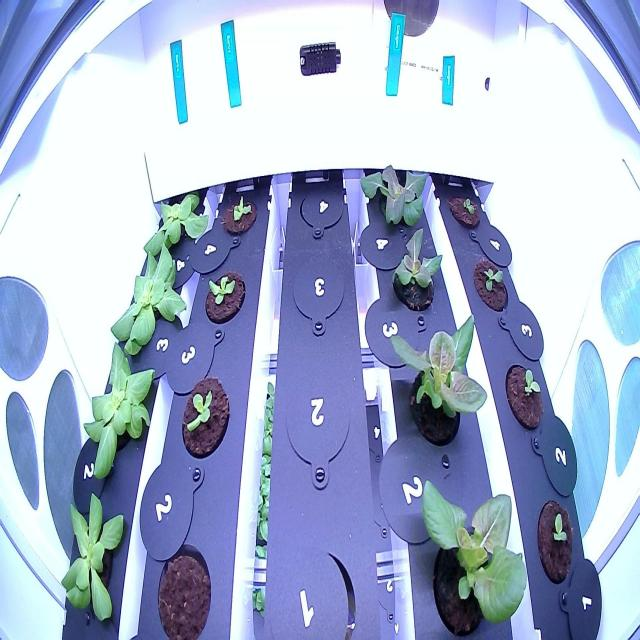empty_pod: (277, 364, 357, 496), (261, 535, 360, 639), (286, 244, 351, 348), (293, 174, 348, 242)
germination: (531, 493, 578, 591), (499, 354, 550, 438), (469, 250, 512, 320), (447, 185, 482, 235)
pod: (153, 534, 214, 640)
young: (413, 467, 531, 638), (383, 304, 493, 456), (76, 334, 162, 482), (54, 482, 129, 630), (104, 237, 192, 362), (355, 148, 434, 238), (138, 185, 212, 271), (387, 217, 448, 318), (177, 367, 235, 467), (201, 259, 249, 330), (220, 185, 259, 245), (389, 231, 390, 235)
